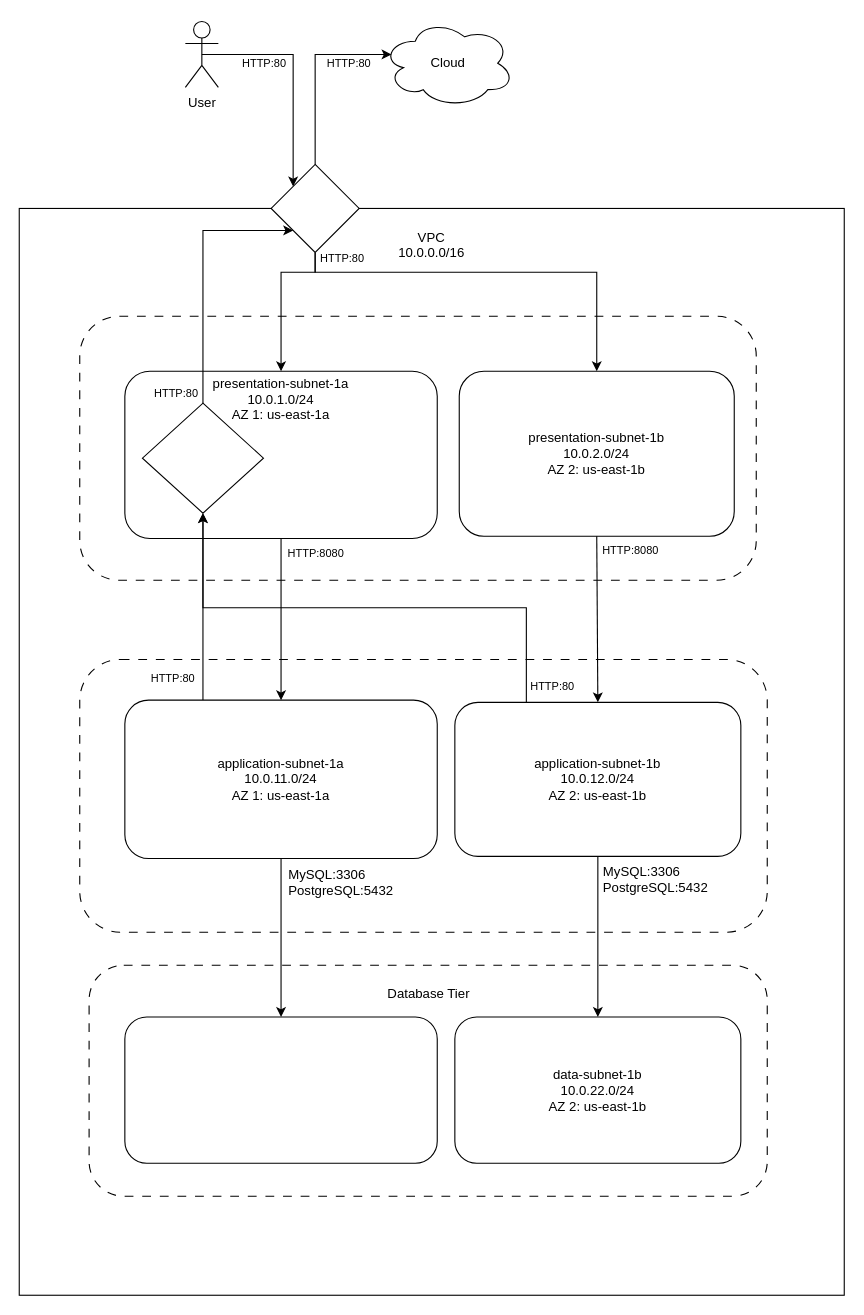
Image size: 864x1315. Some labels were removed from this diagram. The shapes that lost their labels are listed below. From the top down, each one's box as (x1, y1, x2, y2) in pixels, then its label:
(270, 163, 359, 252): IGW
(141, 402, 263, 513): NAT Gateway
(79, 315, 756, 580): Presentation Tier
(79, 658, 767, 932): App Tier
(124, 1016, 437, 1163): data-subnet-1a 10.0.21.0/24 AZ 1: us-east-1a
